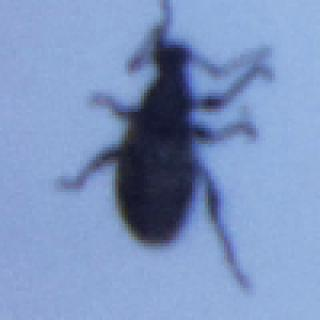bvw: (54, 0, 276, 288)
